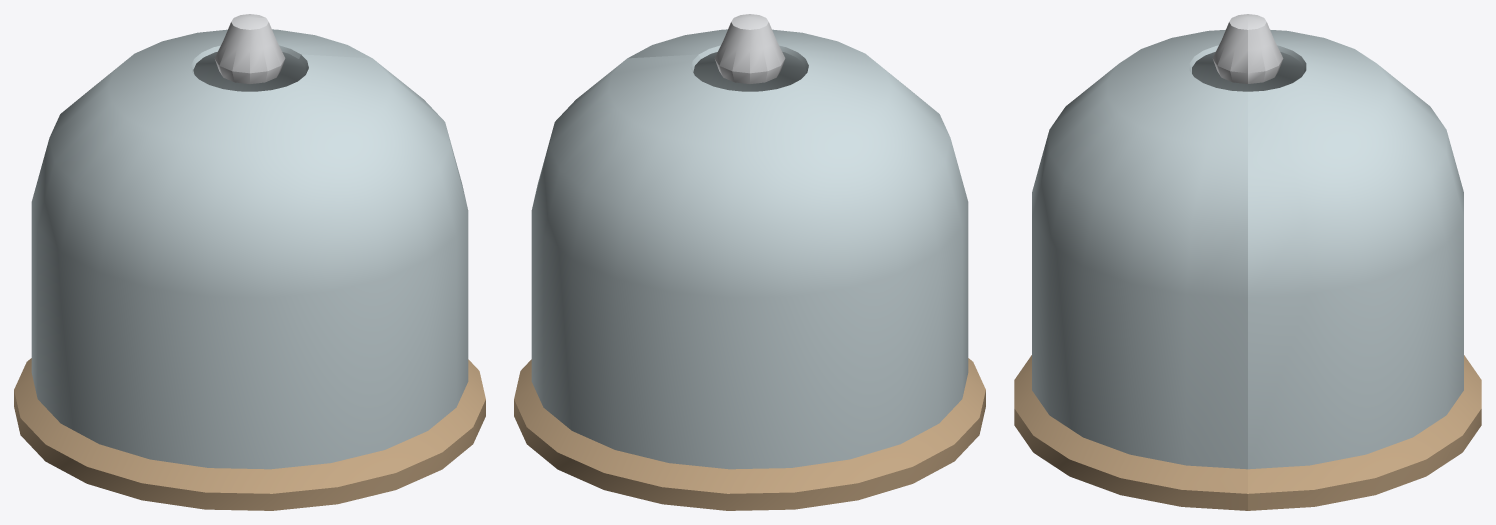
The model's file is bakery-and-cafe-dome-cloche-stand-5f078492__22171.glb.
3 renders of one model, left to right at view 1: azimuth 30°, elevation 25°; view 2: azimuth 150°, elevation 25°; view 3: azimuth 270°, elevation 25°, orthographic.
Parts seen in each view (by area): view 1: dome-cloche-stand; view 2: dome-cloche-stand; view 3: dome-cloche-stand.
Part boxes in pixels (x1,y1,x2,y2): dome-cloche-stand: (14,14,485,510); dome-cloche-stand: (514,14,985,510); dome-cloche-stand: (1014,14,1481,510).
Bounding box in the file's own units: 0.4 × 0.368 × 0.3959.
